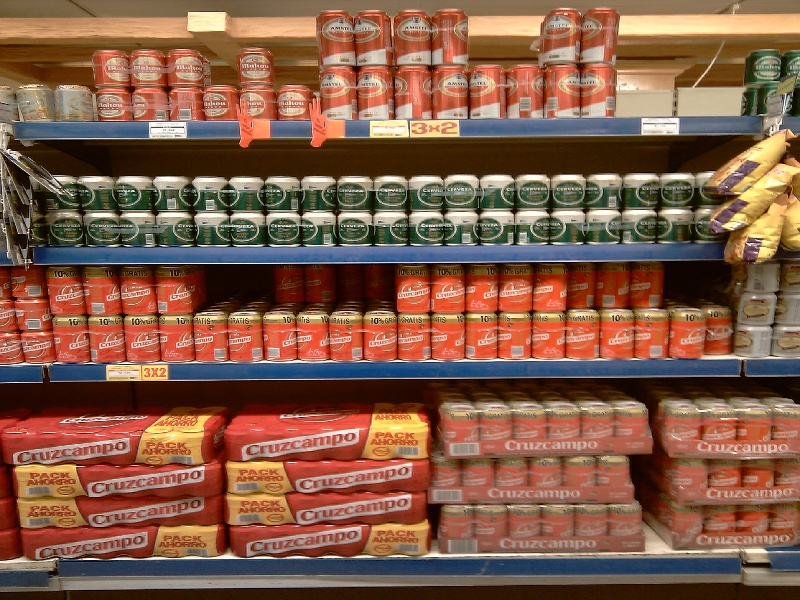beer: (577, 2, 633, 70), (388, 4, 437, 73), (535, 8, 587, 69), (429, 6, 475, 72), (314, 6, 357, 74), (466, 60, 508, 124), (354, 9, 397, 71), (541, 64, 587, 121), (459, 306, 504, 364), (507, 64, 549, 124), (121, 311, 166, 367), (87, 42, 136, 93), (493, 305, 535, 364), (356, 65, 396, 124), (632, 308, 674, 364), (427, 309, 468, 366), (156, 311, 198, 366), (259, 309, 301, 363), (327, 309, 368, 364), (88, 316, 129, 371), (580, 63, 620, 119), (599, 305, 638, 362), (530, 306, 569, 362), (192, 311, 233, 364), (166, 44, 212, 91), (227, 311, 266, 365), (564, 309, 604, 361), (295, 307, 332, 363), (396, 311, 433, 366), (233, 45, 276, 92), (395, 260, 430, 316), (364, 309, 400, 363), (670, 309, 706, 362), (128, 47, 167, 90)
